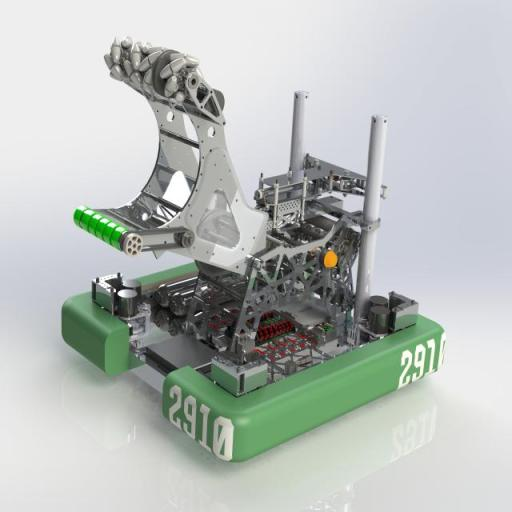robot: (57, 28, 451, 462)
